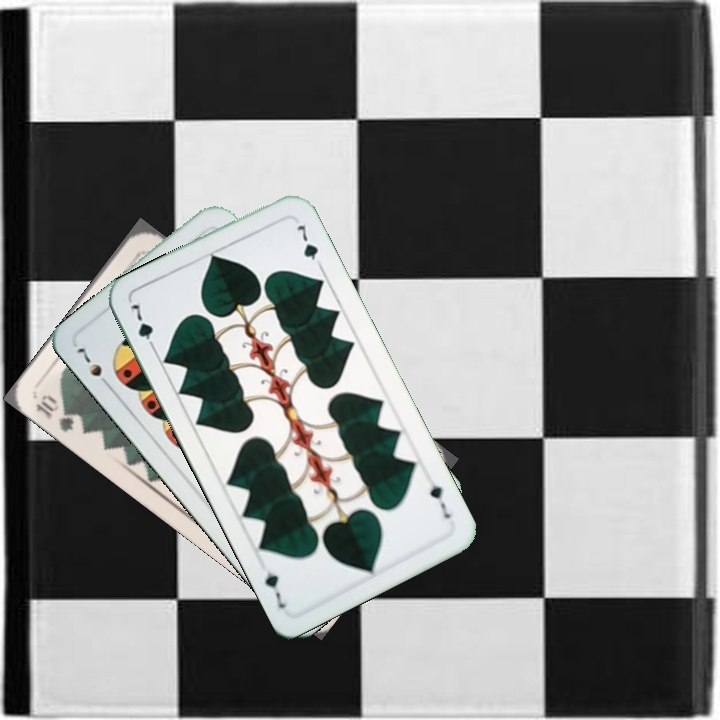G10: (31, 390, 78, 435)
G7: (126, 300, 159, 354), (425, 472, 454, 521)
S7: (72, 343, 114, 392)
